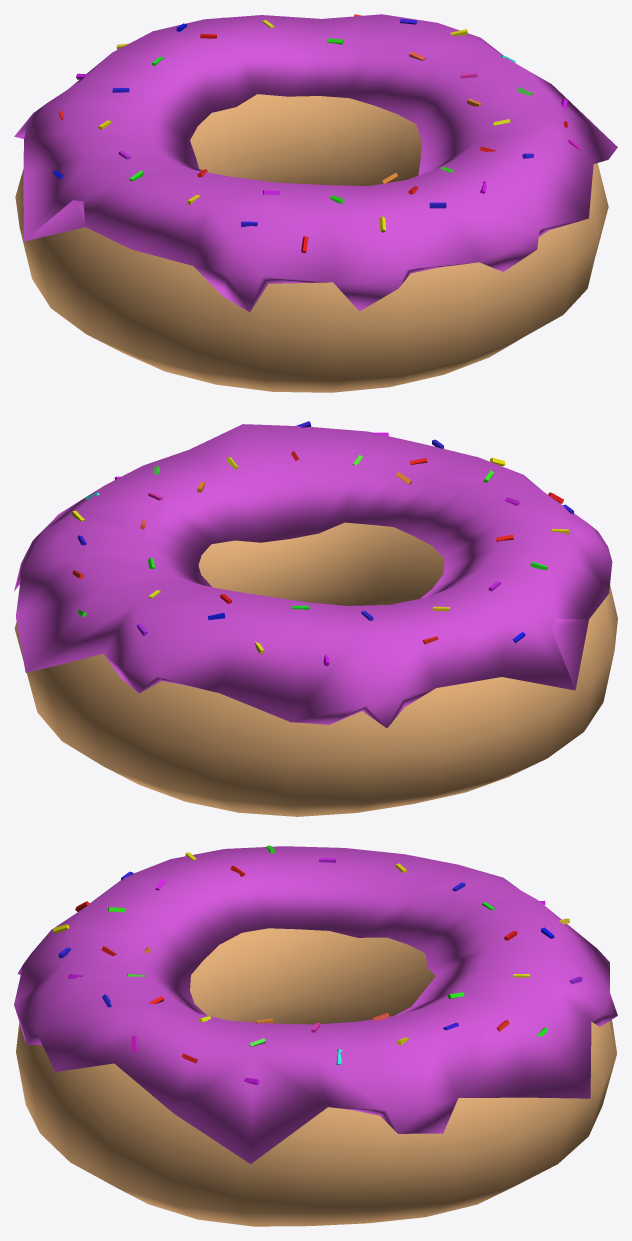
File: Lowpoly-Donut-Pink.fbx
The picture shows the model from 3 angles, top to bottom: view 1: azimuth 30°, elevation 25°; view 2: azimuth 150°, elevation 25°; view 3: azimuth 270°, elevation 25°; orthographic projection. The views are drawn at different scales.
Parts seen in each view (by area): view 1: Icing, Donut; view 2: Icing, Donut; view 3: Icing, Donut.
Part boxes in pixels (x1,y1,x2,y2): Icing: (14,14,617,312); Donut: (15,94,608,392); Icing: (14,424,612,728); Donut: (14,522,617,816); Icing: (14,846,617,1163); Donut: (16,928,616,1226).
Bounding box in the file's own units: 15.15 × 5.03 × 14.23.
